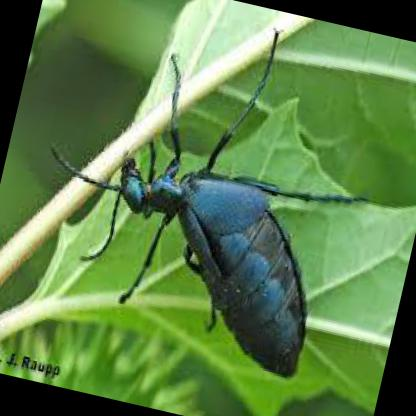blister beetle: (47, 34, 366, 380)
